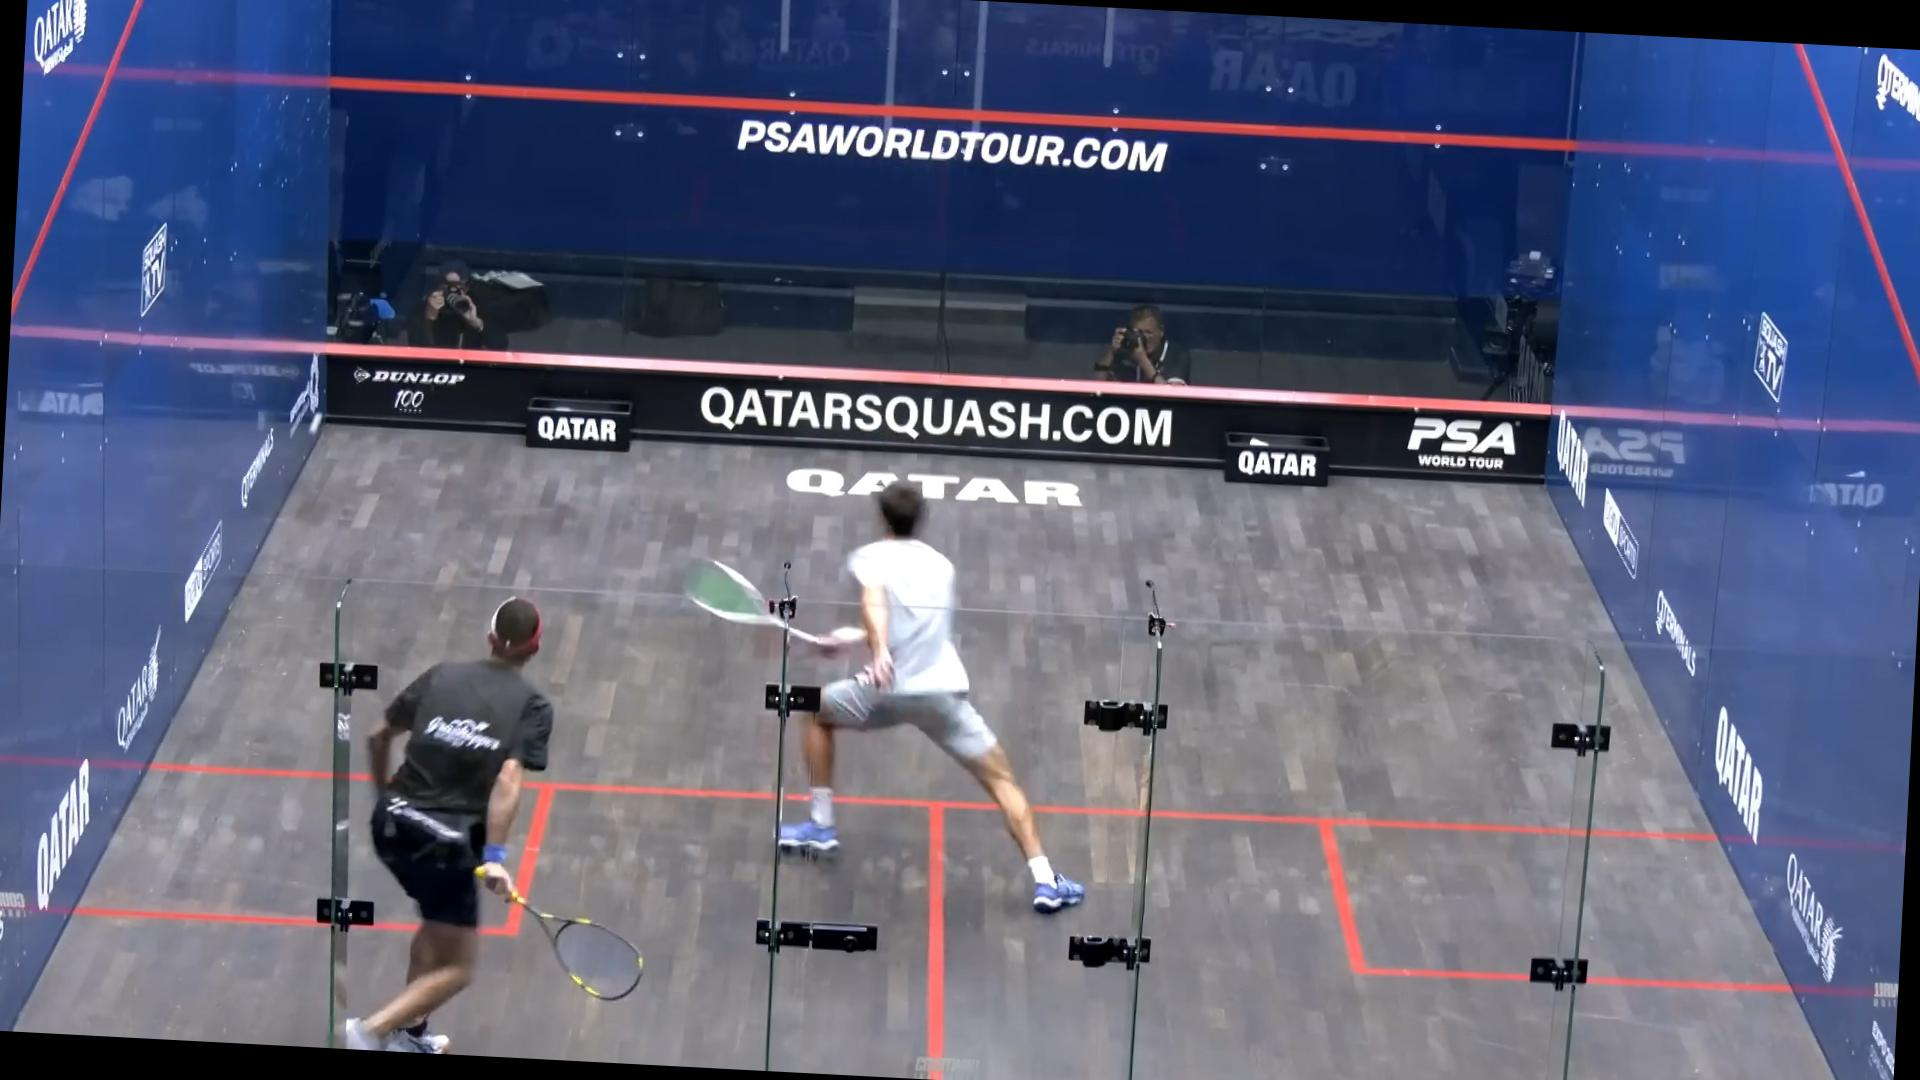Racket: (516, 884, 659, 1007), (669, 549, 828, 651)
